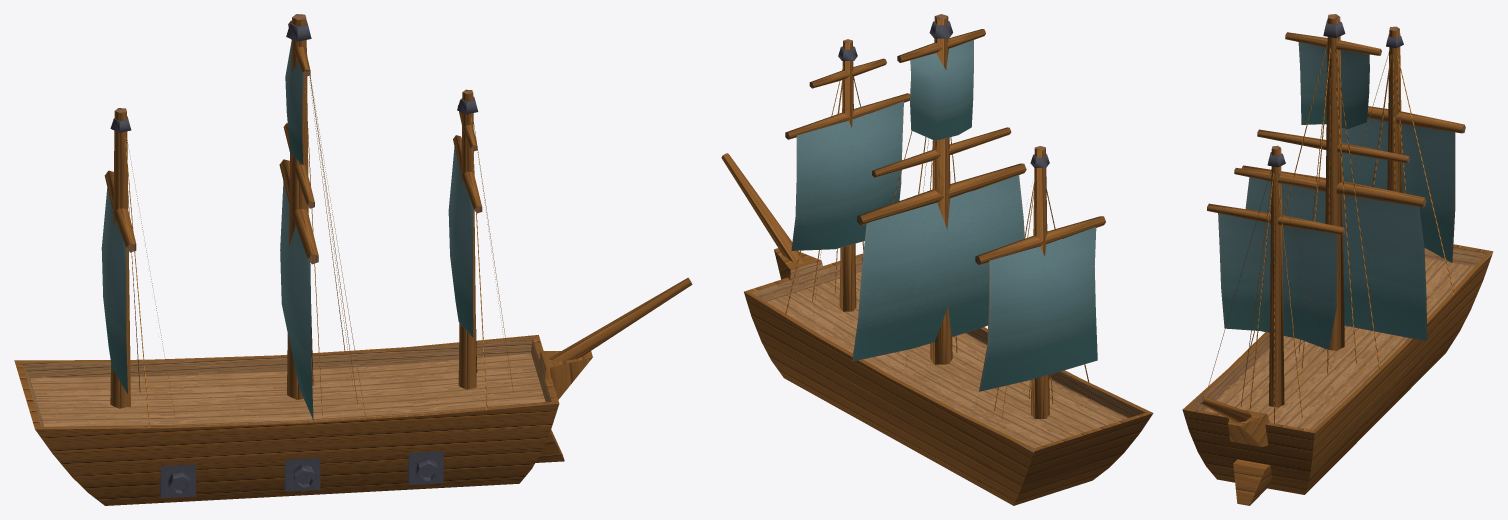
The picture shows the model from 3 angles, left to right: view 1: azimuth 30°, elevation 25°; view 2: azimuth 150°, elevation 25°; view 3: azimuth 270°, elevation 25°; orthographic projection. The views are drawn at different scales.
Parts seen in each view (by area): view 1: defaultMaterial.042; view 2: defaultMaterial.042; view 3: defaultMaterial.042.
Boxes of the visible parts, bbox=[...] form: defaultMaterial.042: bbox=[14, 14, 692, 505]; defaultMaterial.042: bbox=[721, 14, 1153, 505]; defaultMaterial.042: bbox=[1182, 14, 1493, 505].
Bounding box in the file's own units: 1716 × 1320 × 936.
1 material, 1 textured.
